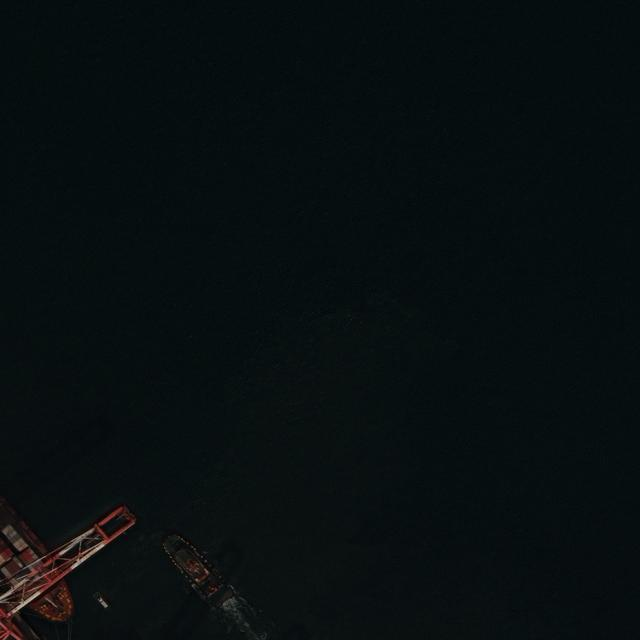Container Ship: (1, 487, 69, 617)
Other Ship: (159, 529, 226, 601)
